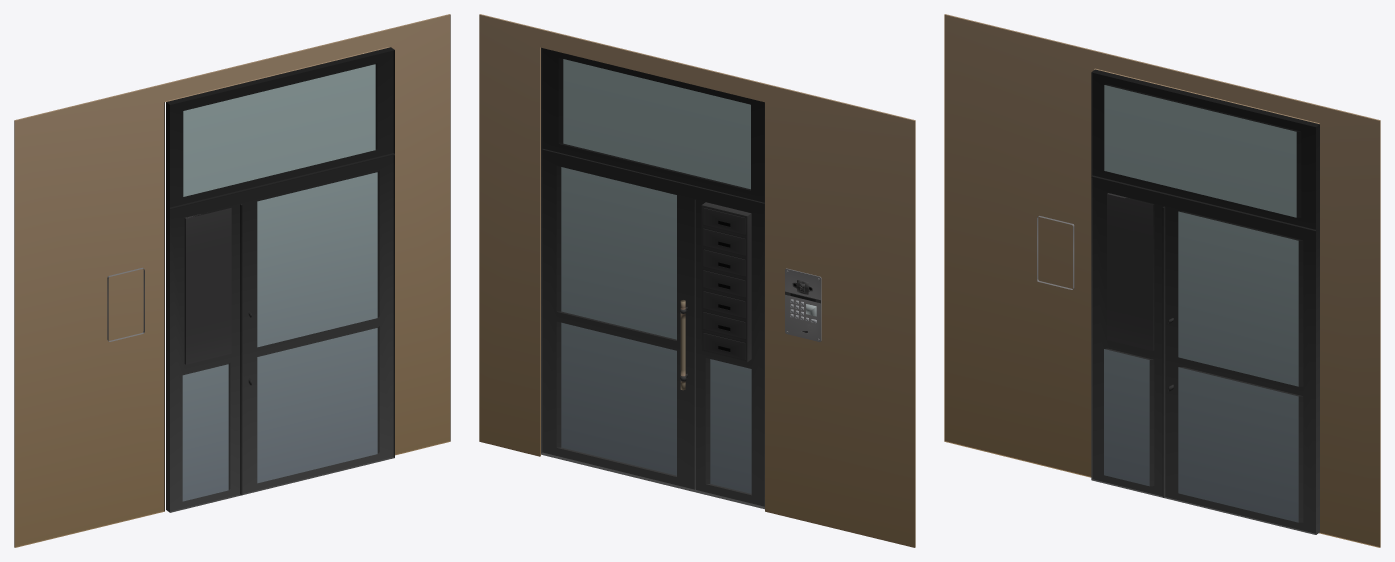
Rendered from The glass door is new.fbx.
3 renders of one model, left to right at view 1: azimuth 30°, elevation 25°; view 2: azimuth 150°, elevation 25°; view 3: azimuth 330°, elevation 25°, orthographic.
Parts seen in each view (by area): view 1: New podiezd Door; view 2: New podiezd Door; view 3: New podiezd Door.
Part boxes in pixels (x1=…): New podiezd Door: x1=14, y1=14, x2=450, y2=547; New podiezd Door: x1=479, y1=14, x2=915, y2=547; New podiezd Door: x1=944, y1=14, x2=1380, y2=547.
Bounding box in the file's own units: 659 × 618 × 22.81.
